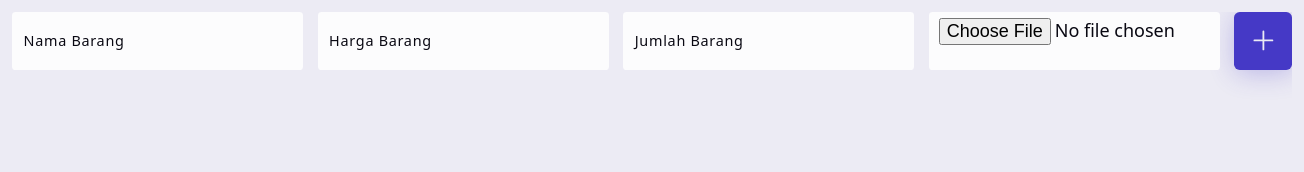
CustomForm › can input data and submit, resets after submit
In the field labelled "Nama Barang": (158, 41) [12, 12, 303, 70], type "Roti"
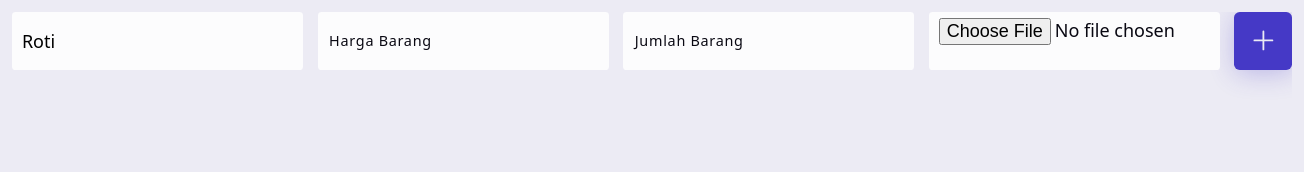
In the number field labelled "Harga Barang": (463, 41) [318, 12, 609, 70], type "10000"
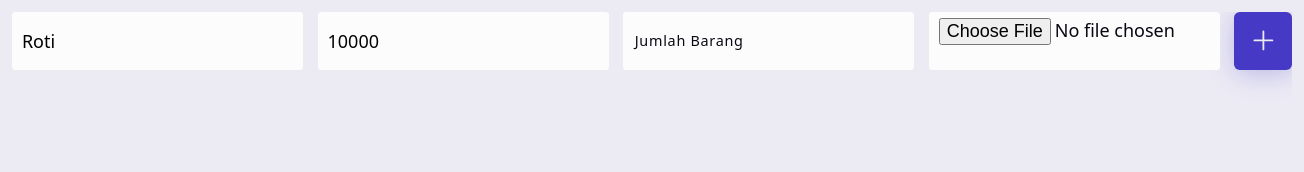
In the number field labelled "Jumlah Barang": (769, 41) [623, 12, 914, 70], type "5"
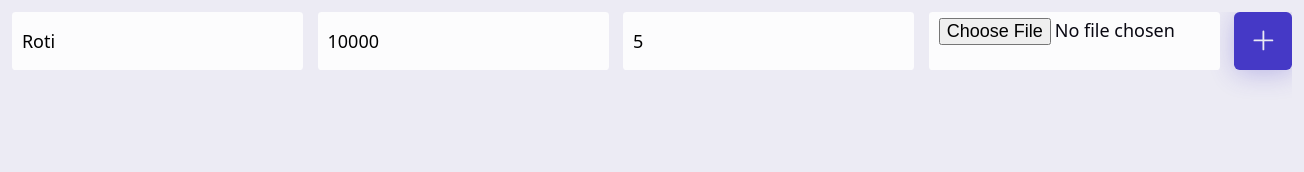
Submit the form with test id "form", box [12, 12, 1292, 70]
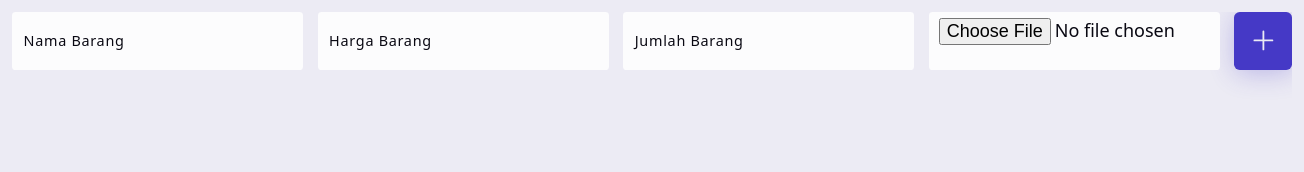
Check: the field labelled "Nama Barang" is empty, box [12, 12, 303, 70]
Check: the number field labelled "Harga Barang" is not empty, box [318, 12, 609, 70]
Check: the number field labelled "Jumlah Barang" is not empty, box [623, 12, 914, 70]
